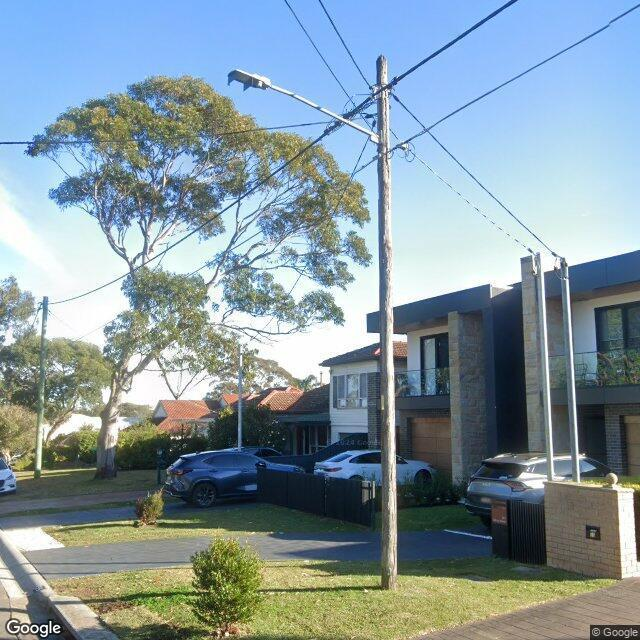steel-pole: (534, 253, 555, 481), (561, 257, 581, 483), (238, 343, 242, 447)
streetlight: (226, 69, 385, 148)
timber-pole: (376, 57, 397, 590), (34, 296, 48, 477)
